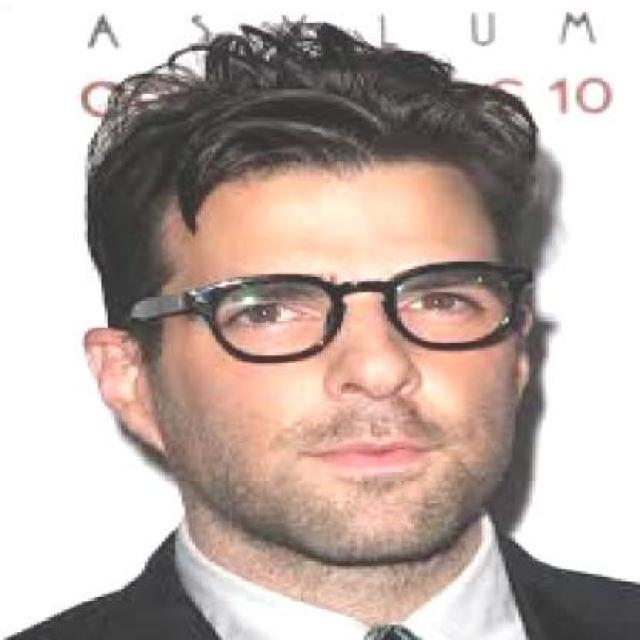glasses: (172, 258, 542, 358)
